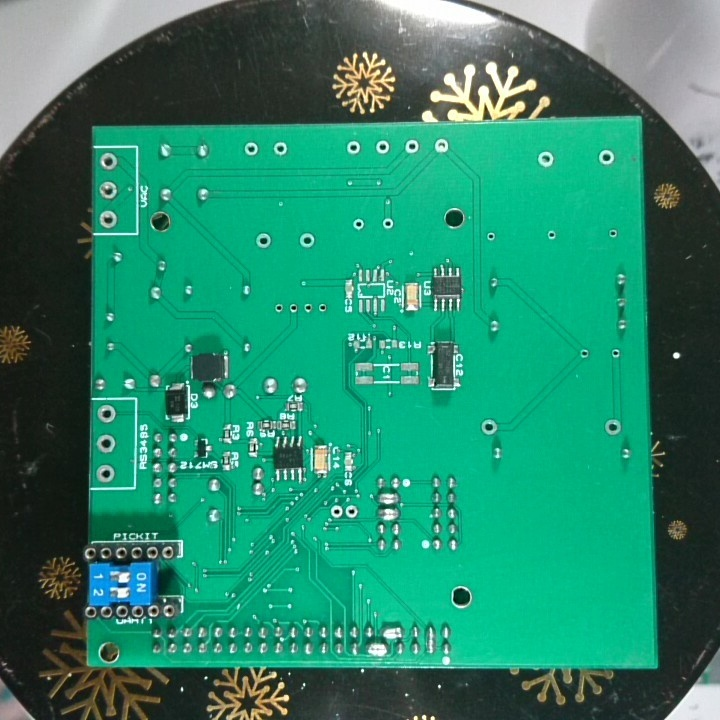F: (95, 403, 120, 426), (97, 207, 120, 231), (97, 178, 120, 201), (94, 461, 117, 483), (595, 146, 617, 169), (536, 148, 557, 172), (95, 432, 117, 454), (297, 230, 319, 252), (253, 229, 276, 249), (98, 151, 119, 172), (603, 417, 624, 438), (402, 135, 421, 158), (431, 135, 451, 156), (271, 138, 291, 158), (479, 416, 498, 437), (241, 140, 262, 159), (345, 138, 364, 159), (373, 137, 391, 158), (544, 225, 560, 246), (344, 500, 359, 520), (608, 346, 625, 363), (271, 300, 288, 317), (576, 344, 592, 361), (314, 300, 331, 316), (379, 215, 395, 232), (329, 502, 344, 520), (350, 217, 368, 232), (300, 301, 317, 316), (606, 227, 622, 242), (286, 301, 301, 317), (484, 229, 498, 246)
P: (423, 620, 438, 658), (365, 639, 390, 658), (375, 489, 401, 506), (376, 506, 402, 523), (380, 623, 404, 641)
